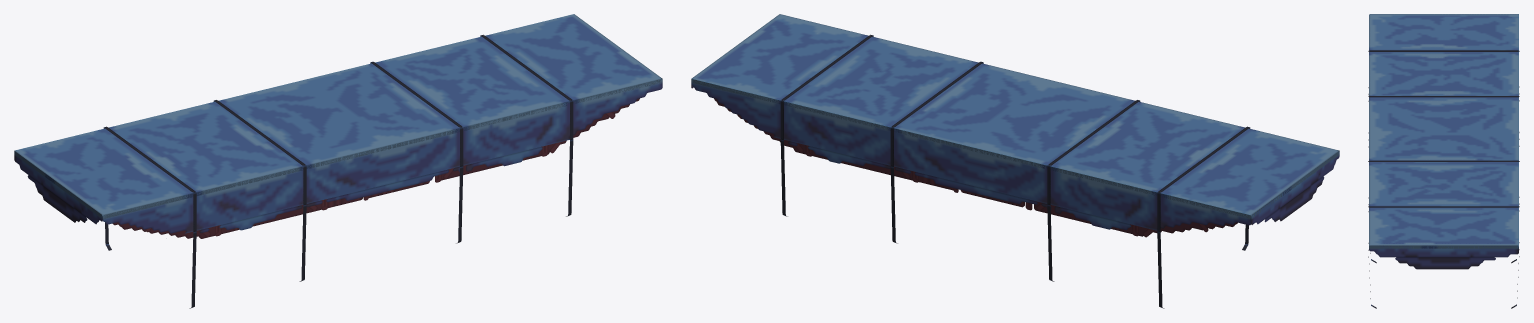
The model's file is meter_freight_tarpaulin_mirrored.obj.
The picture shows the model from 3 angles, left to right: view 1: azimuth 30°, elevation 25°; view 2: azimuth 150°, elevation 25°; view 3: azimuth 270°, elevation 25°; orthographic projection. The views are drawn at different scales.
Parts seen in each view (by area): view 1: part_3f44924043c4c78b4c84a5f68e82ac01, part_d52ee66c536ba1ac29a95e56605b6c20, part_53c2d39a418640fdb8cf22d03f7dfb9c, part_72583437741474e899dc1efa136be4ad, part_6e017370575b78a36d9045f5dfea5a96, part_e33c084bb1b32f9f9fbe92e8228adb68; view 2: part_3f44924043c4c78b4c84a5f68e82ac01, part_6cf12048efe7e74f797b69c0b543117c, part_fd5e1a8cb93d28d7b03e759e72e72f44, part_f370ed71e119f1161e22991698553196, part_6e017370575b78a36d9045f5dfea5a96, part_e33c084bb1b32f9f9fbe92e8228adb68; view 3: part_3f44924043c4c78b4c84a5f68e82ac01, part_a0d662268ad5cb1cfc1192c785297af4, part_caaedb47b12e5f9b578c8f1892529db7, part_373dad6954f4afc0ca1b240f148258e6, part_b3333d3fa8abf7eb8dfb2b80199243e3, part_364d004015dbb0819987eacffed27597, part_0cc2ff008bfcf0245349ea6acaa11dae.
Boxes of the visible parts, x1,y1,x2,y2 form: part_3f44924043c4c78b4c84a5f68e82ac01: (14, 14, 662, 218); part_d52ee66c536ba1ac29a95e56605b6c20: (102, 79, 662, 233); part_53c2d39a418640fdb8cf22d03f7dfb9c: (199, 147, 542, 233); part_72583437741474e899dc1efa136be4ad: (112, 98, 639, 238); part_6e017370575b78a36d9045f5dfea5a96: (14, 151, 102, 224); part_e33c084bb1b32f9f9fbe92e8228adb68: (27, 175, 87, 222); part_3f44924043c4c78b4c84a5f68e82ac01: (691, 14, 1338, 218); part_6cf12048efe7e74f797b69c0b543117c: (691, 79, 1251, 230); part_fd5e1a8cb93d28d7b03e759e72e72f44: (788, 141, 1130, 230); part_f370ed71e119f1161e22991698553196: (714, 98, 1237, 236); part_6e017370575b78a36d9045f5dfea5a96: (1251, 151, 1339, 224); part_e33c084bb1b32f9f9fbe92e8228adb68: (1264, 176, 1324, 222); part_3f44924043c4c78b4c84a5f68e82ac01: (1369, 14, 1518, 248); part_a0d662268ad5cb1cfc1192c785297af4: (1369, 245, 1518, 257); part_caaedb47b12e5f9b578c8f1892529db7: (1395, 257, 1495, 269); part_373dad6954f4afc0ca1b240f148258e6: (1368, 206, 1519, 207); part_b3333d3fa8abf7eb8dfb2b80199243e3: (1368, 96, 1519, 97); part_364d004015dbb0819987eacffed27597: (1368, 50, 1519, 51); part_0cc2ff008bfcf0245349ea6acaa11dae: (1368, 160, 1519, 161).
Bounding box in the file's own units: 10.5 × 2.2 × 2.91.
